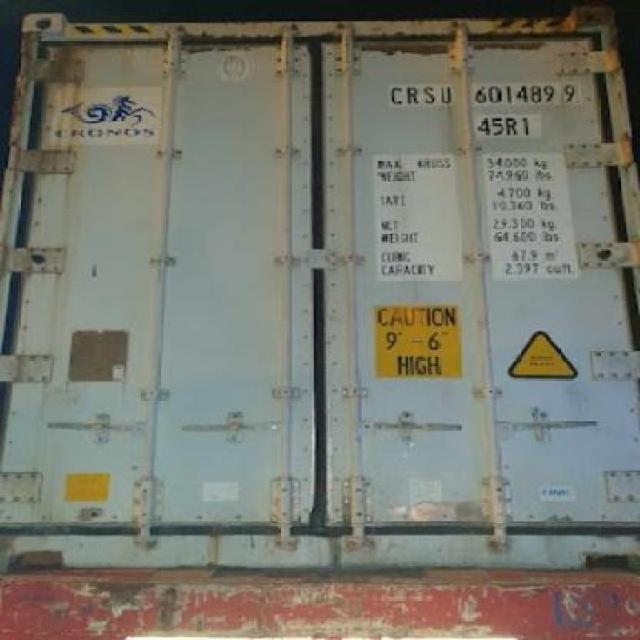ISO: (478, 113, 534, 137)
container_number: (393, 81, 572, 106)
